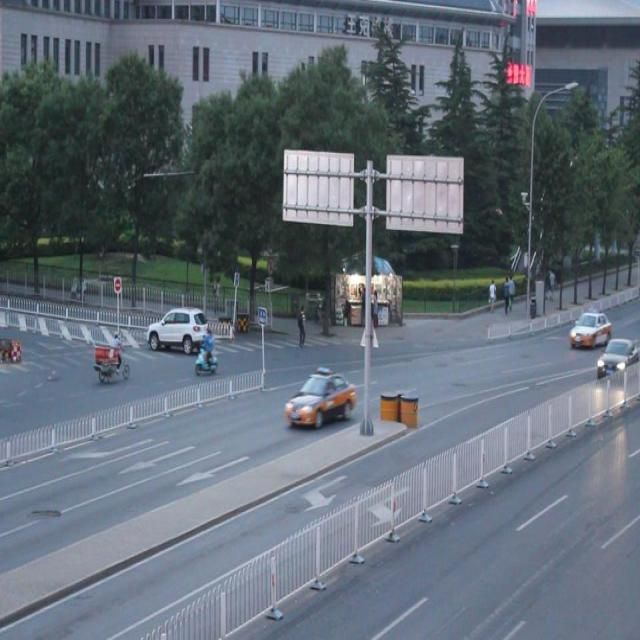car: (287, 369, 353, 429), (145, 308, 207, 354), (567, 306, 608, 346), (595, 340, 640, 376)
